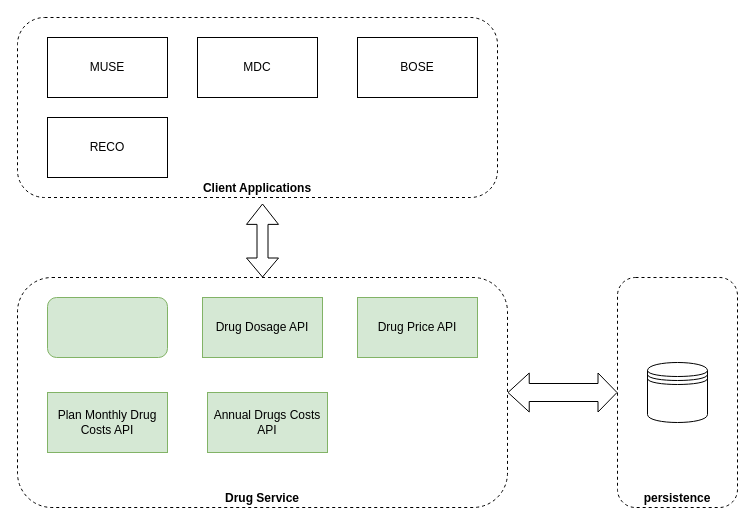
The diagram is 755 pixels wide and 525 high, and some of its shapes have lost their labels. Each missing label, with the centre of its shape:
Drug Name API: the point at 107,327
mcratedb: the point at 677,392
